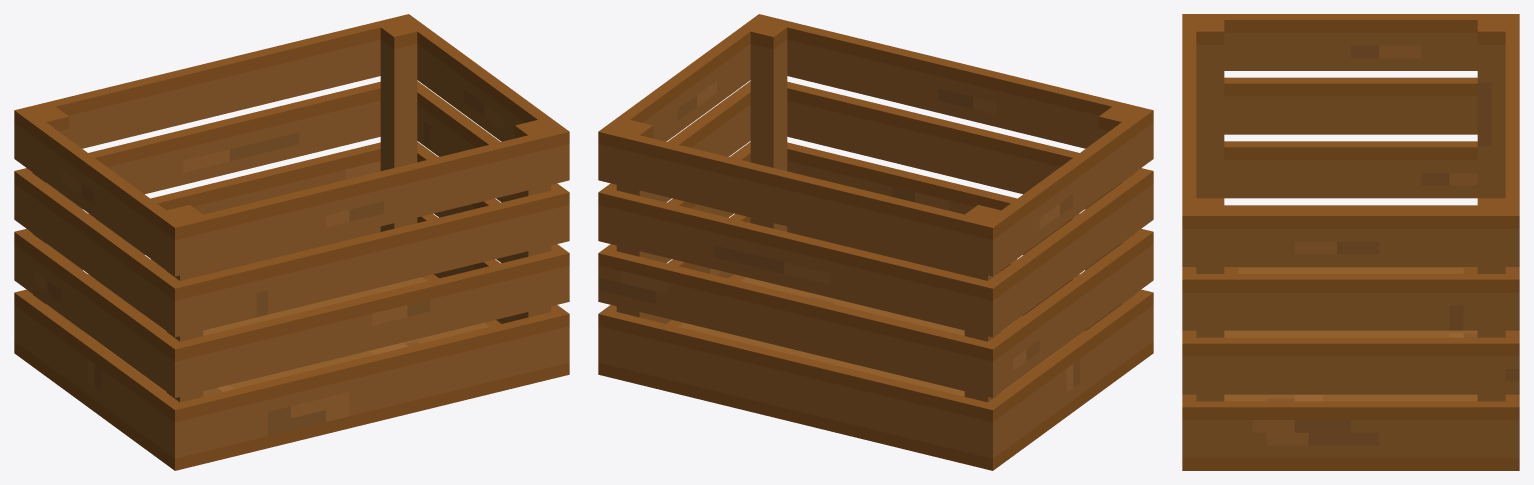
File: WoodenCrate.fbx
3 renders of one model, left to right at view 1: azimuth 30°, elevation 25°; view 2: azimuth 150°, elevation 25°; view 3: azimuth 270°, elevation 25°, orthographic. The views are drawn at different scales.
Parts seen in each view (by area): view 1: Untitled; view 2: Untitled; view 3: Untitled.
Boxes of the visible parts, box(x1,y1,x2,y2) form: Untitled: box(14, 14, 569, 470); Untitled: box(598, 14, 1153, 470); Untitled: box(1182, 14, 1519, 470).
Size of the model in its own units: 3.4 by 2.4 by 2.
1 material, 1 textured.
